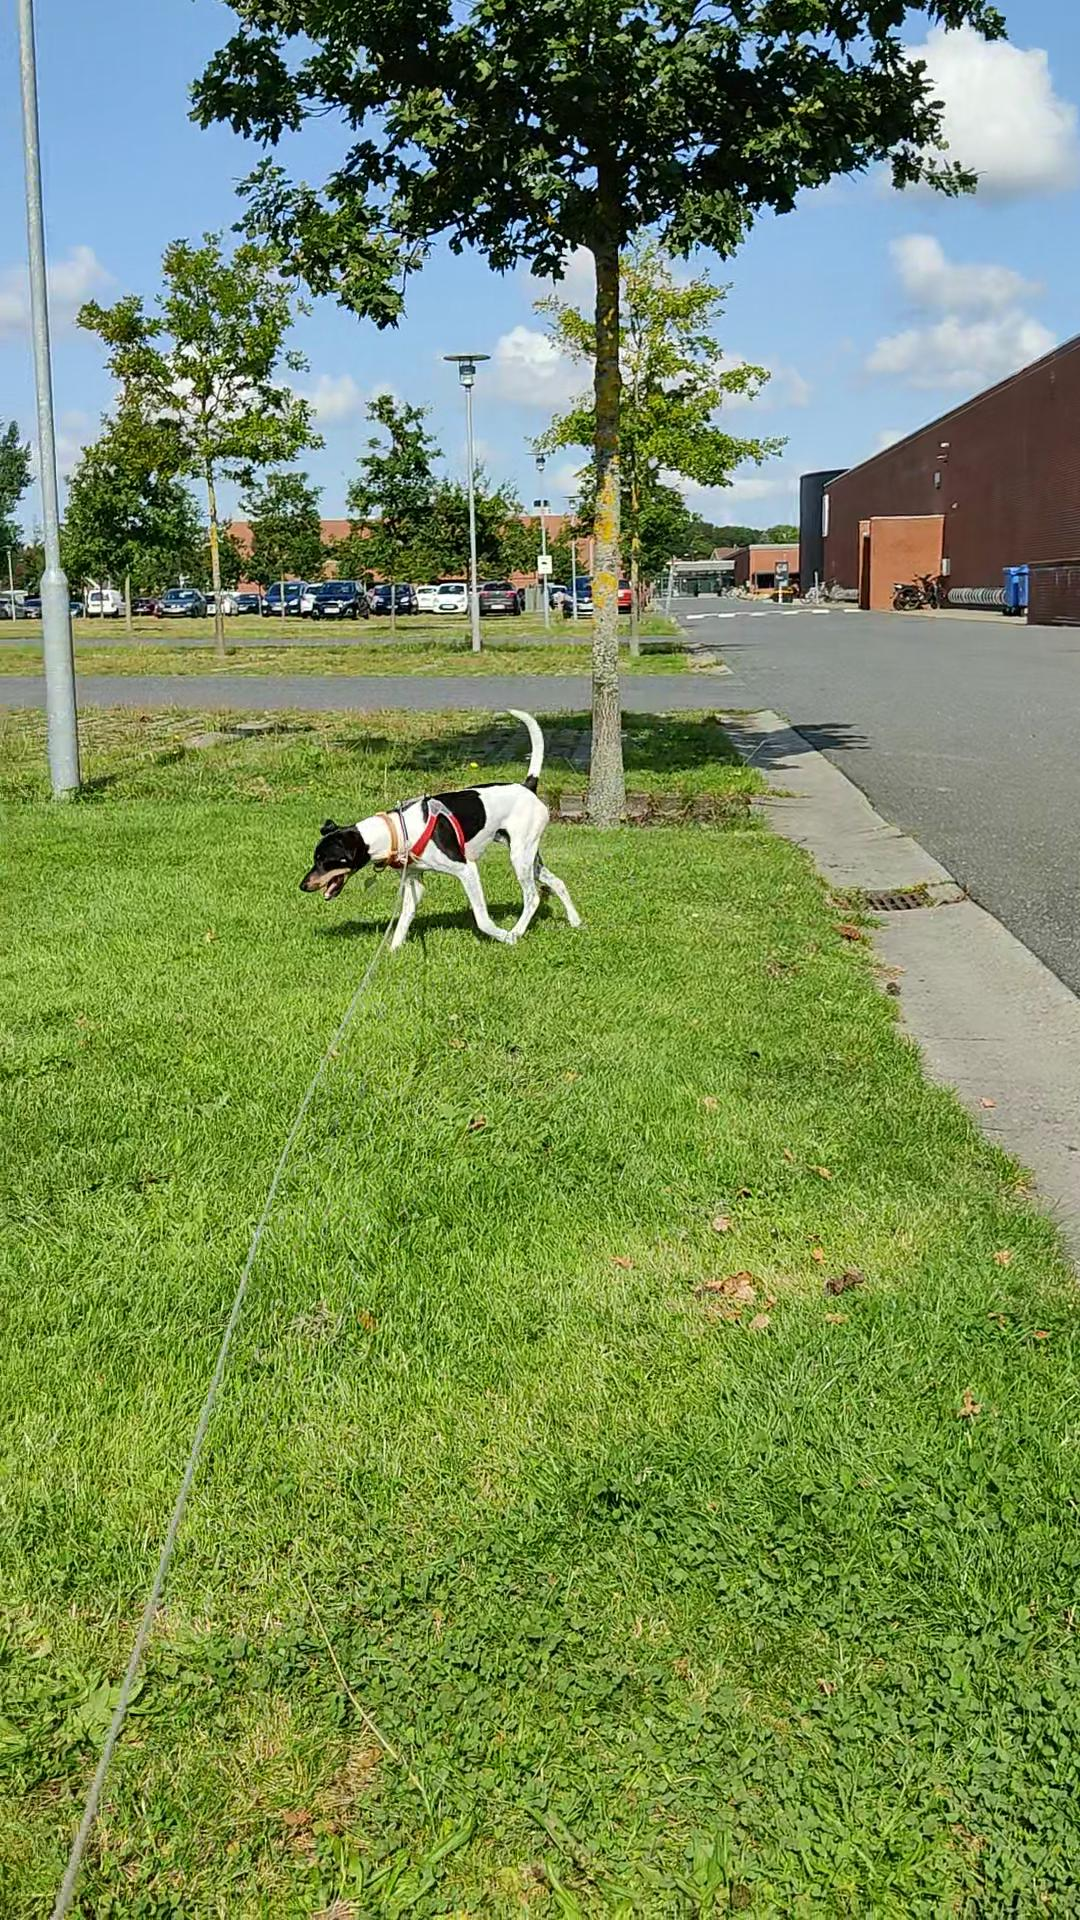Dog: (293, 695, 587, 964)
